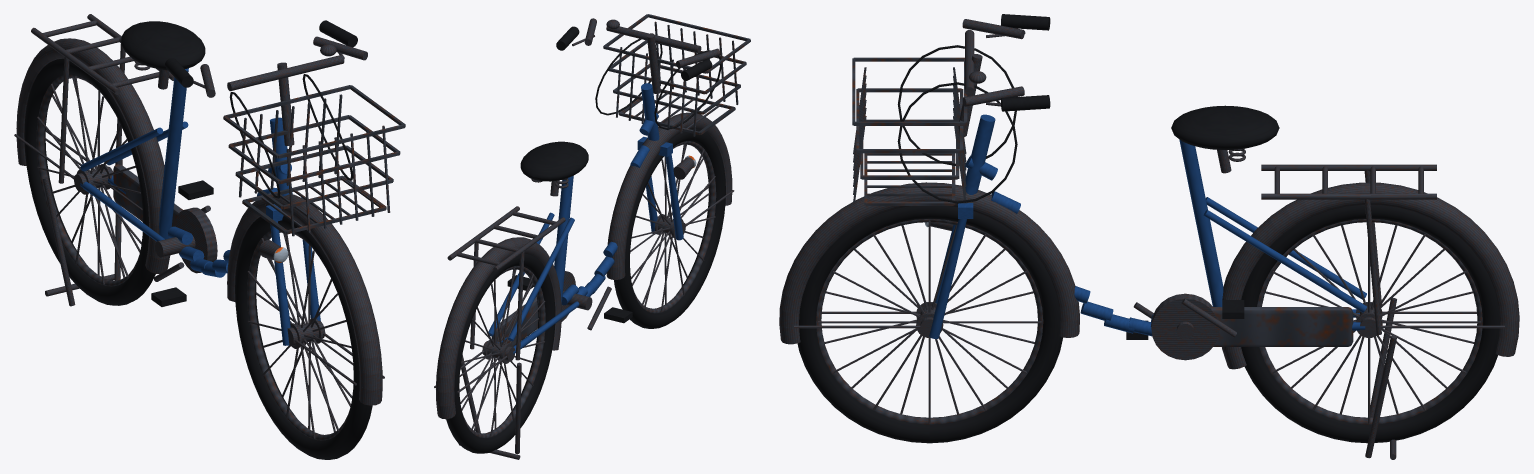
Rendered from Prop_Bicycle.fbx.
3 views of the same model, side by side, from view 1: azimuth 30°, elevation 25°; view 2: azimuth 150°, elevation 25°; view 3: azimuth 270°, elevation 25° (orthographic). The views are drawn at different scales.
Visible parts, largest first — view 1: Prop_Bicycle; view 2: Prop_Bicycle; view 3: Prop_Bicycle.
Part boxes in pixels (left/top/right/bottom): Prop_Bicycle: left=14, top=14, right=405, bottom=459; Prop_Bicycle: left=434, top=14, right=750, bottom=459; Prop_Bicycle: left=779, top=14, right=1519, bottom=459.
Bounding box in the file's own units: 0.5307 × 1.1 × 1.85.
